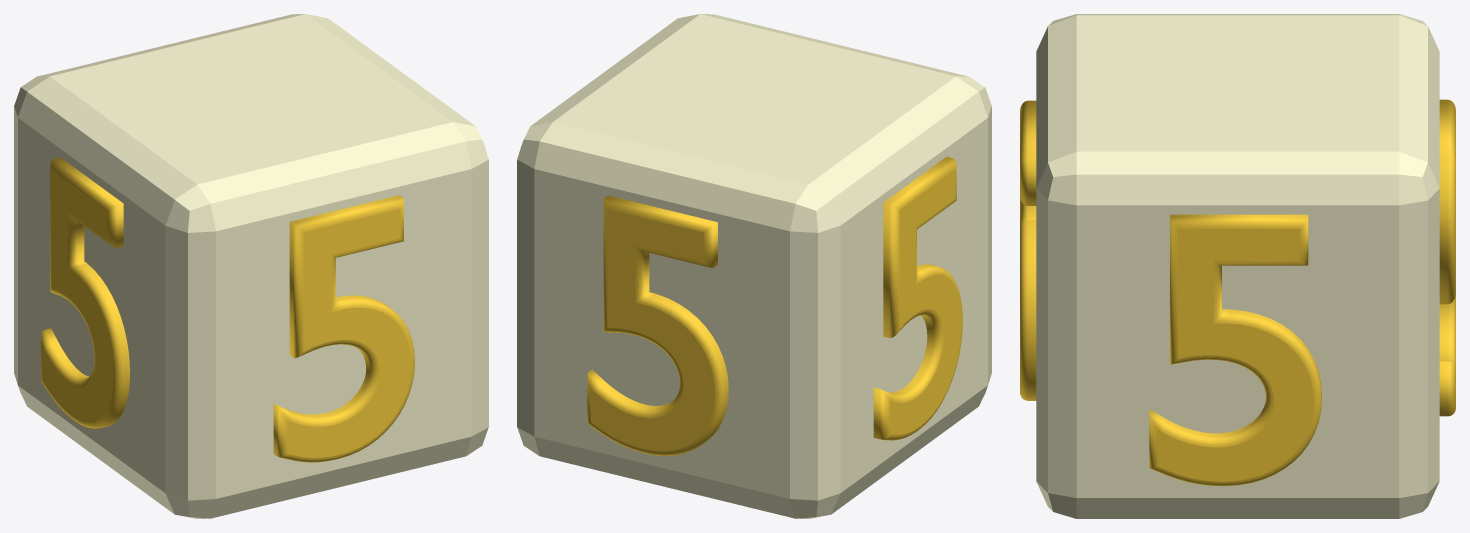
The picture shows the model from 3 angles, left to right: view 1: azimuth 30°, elevation 25°; view 2: azimuth 150°, elevation 25°; view 3: azimuth 270°, elevation 25°; orthographic projection. The views are drawn at different scales.
Parts seen in each view (by area): view 1: 5; view 2: 5; view 3: 5.
Boxes of the visible parts, left/top/right/bottom form: 5: left=14, top=14, right=488, bottom=518; 5: left=517, top=14, right=991, bottom=518; 5: left=1020, top=14, right=1455, bottom=518.
Bounding box in the file's own units: 216 × 200 × 216.
